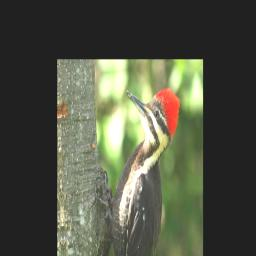Woodpecker: (93, 82, 186, 256)
